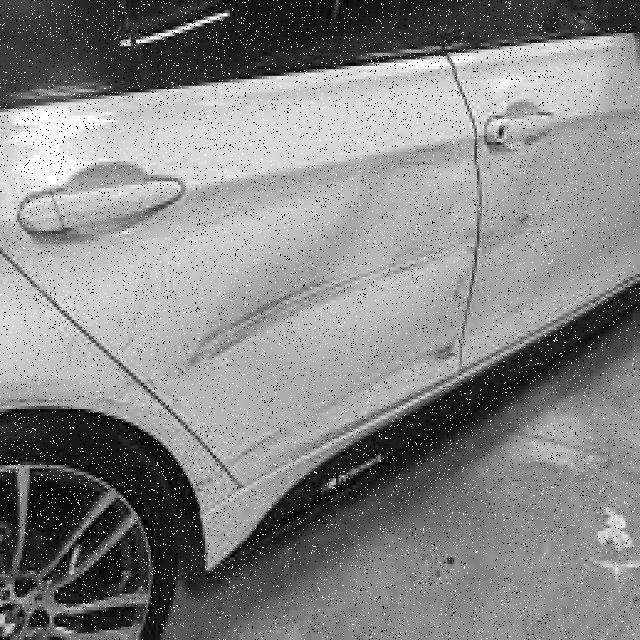doorouter-dent: (20, 82, 460, 418), (468, 36, 633, 362)
